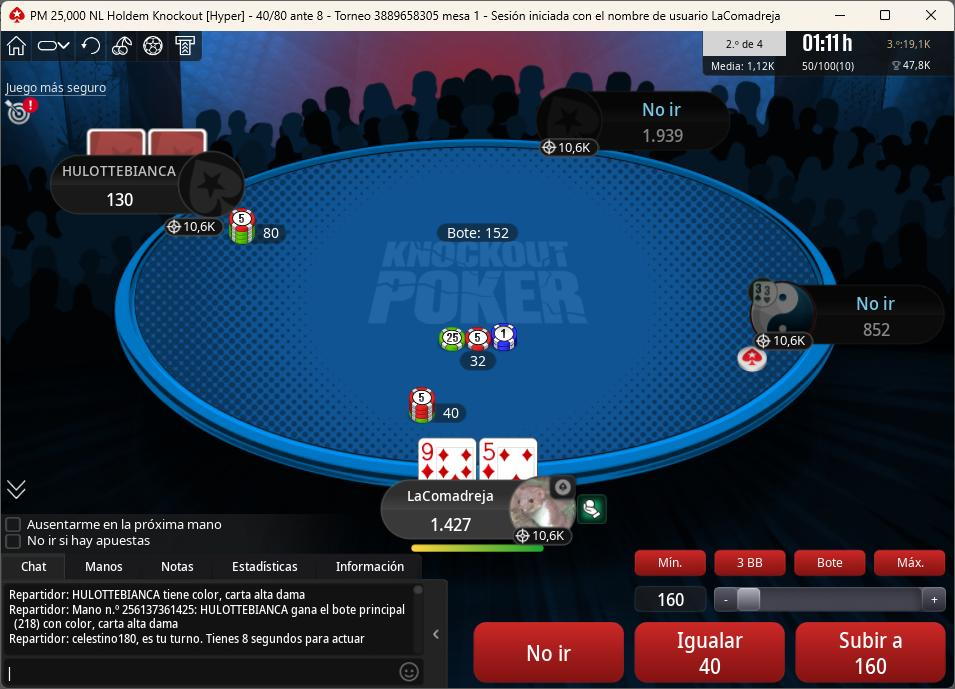ButtonCall: (628, 614, 784, 684)
ButtonFold: (472, 620, 631, 685)
ButtonMaxRaise: (873, 549, 949, 580)
ButtonMinRaise: (633, 547, 711, 580)
ButtonPotRaise: (793, 546, 871, 578)
ButtonRaise: (794, 618, 947, 687)
HiddenCards: (84, 132, 211, 160)
Player: (747, 281, 952, 350), (52, 151, 250, 215), (546, 92, 734, 158)
PlayerBet: (229, 208, 293, 248)
PlayerChips: (637, 129, 694, 147), (858, 322, 902, 343), (96, 191, 140, 211)
Pot: (434, 223, 521, 244)
PrincipalBet: (406, 385, 473, 425)
PrincipalCards: (413, 436, 543, 483)
PrincipalCards1: (416, 433, 479, 484)
PrincipalCards2: (479, 436, 540, 483)
PrincipalPlayer: (385, 475, 587, 551)
PrincipalPlayerChips: (425, 517, 480, 537)
SmallBigBlind: (247, 3, 332, 28)
TablePot: (436, 319, 548, 375)
